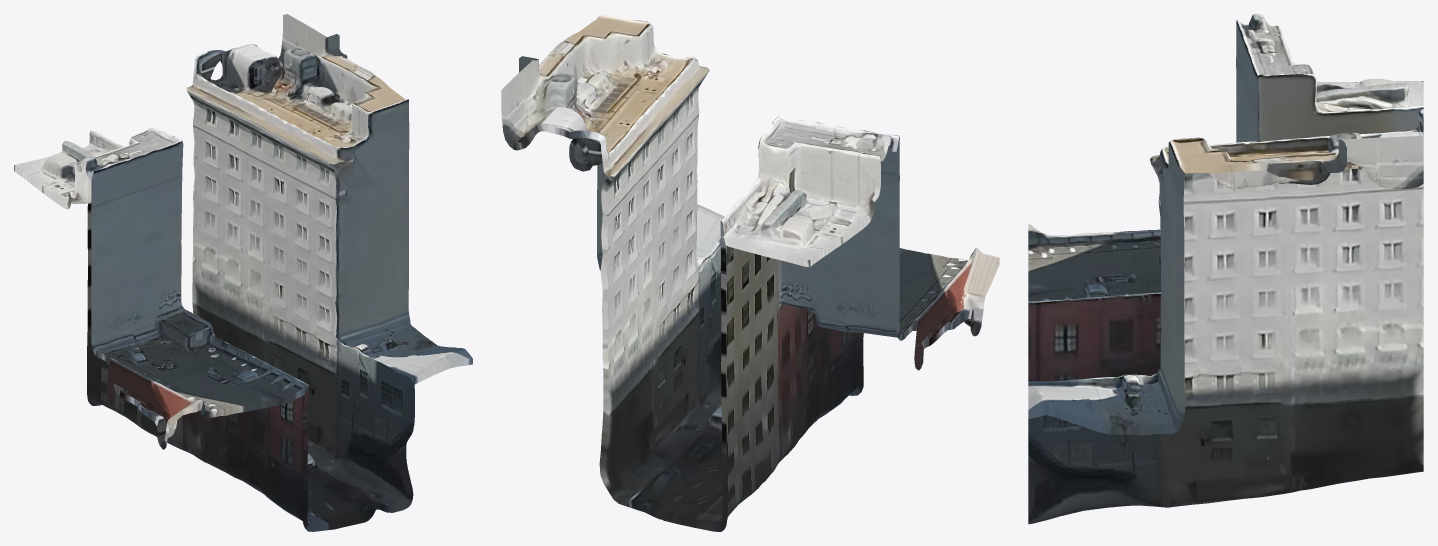
File: z20-167753-405244-h0-yup-uvflip-v3-world.glb
3 views of the same model, side by side, from view 1: azimuth 30°, elevation 25°; view 2: azimuth 150°, elevation 25°; view 3: azimuth 270°, elevation 25° (orthographic). The views are drawn at different scales.
Bounding box in the file's own units: 30.16 × 36.04 × 30.32.
Materials: 1 (1 with a texture image).
